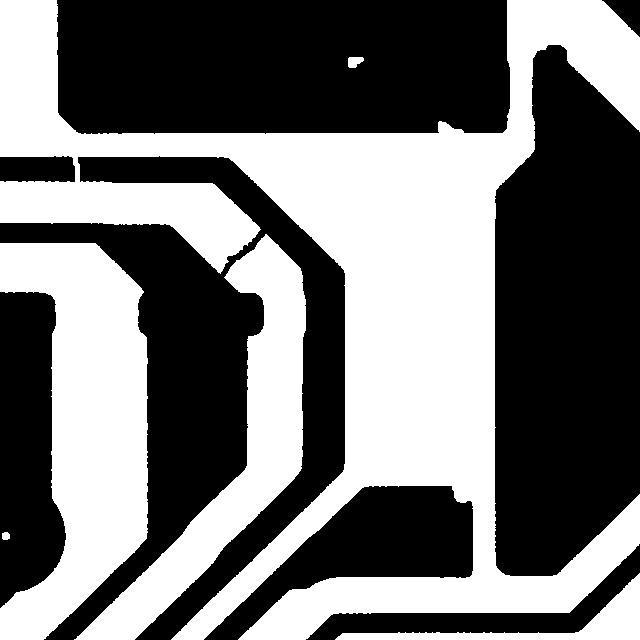mousebite: (428, 111, 473, 146), (442, 474, 480, 512)
open: (61, 143, 89, 192)
pin-hole: (338, 47, 373, 77)
short: (202, 218, 275, 299)
spur: (536, 35, 576, 70)
